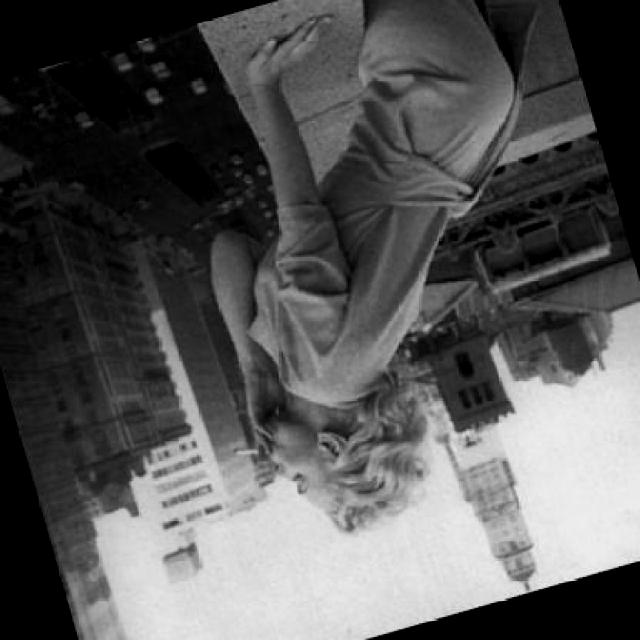cigarette: (229, 436, 269, 464)
